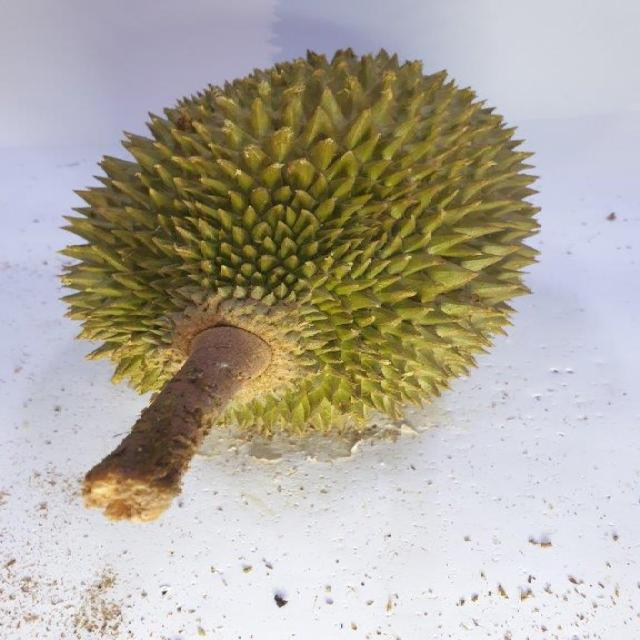immature: (52, 46, 546, 446)
